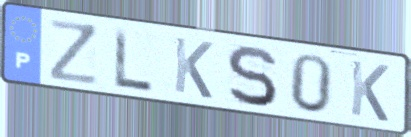0: (287, 52, 335, 115)
K: (348, 57, 392, 125), (171, 34, 215, 102)
L: (112, 25, 155, 93)
S: (223, 43, 280, 109)
Z: (48, 17, 102, 88)
